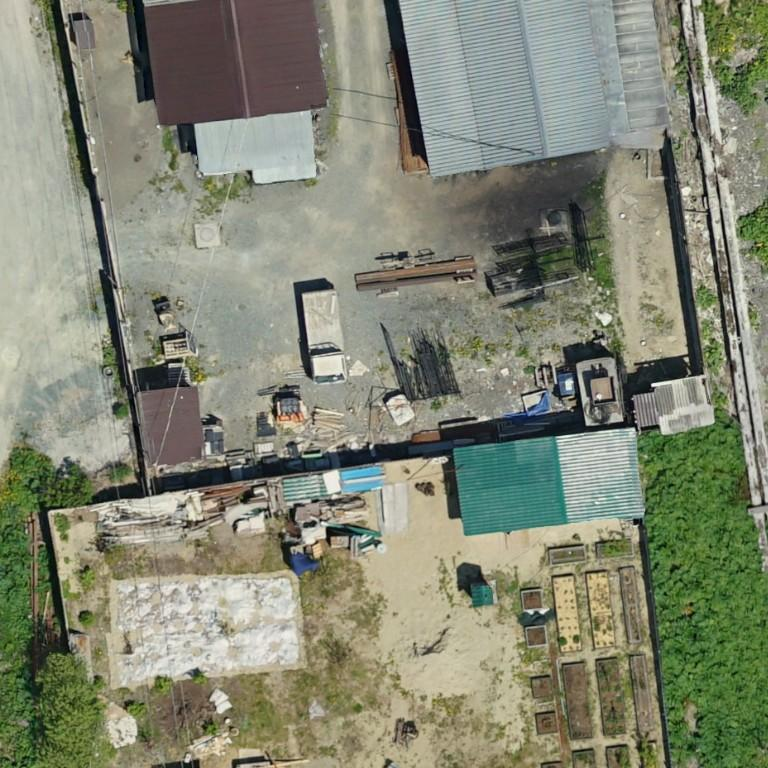hogweed: (638, 411, 767, 767), (9, 449, 92, 514), (717, 48, 767, 111), (737, 199, 767, 271)
